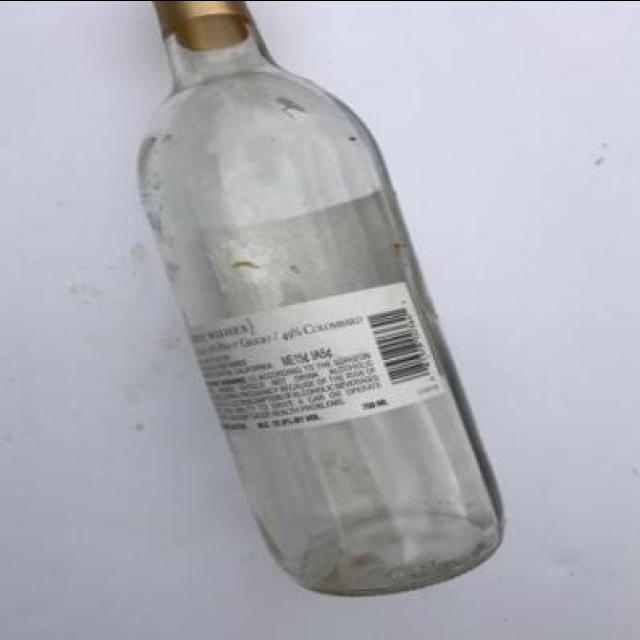kaca: (139, 1, 506, 594)
